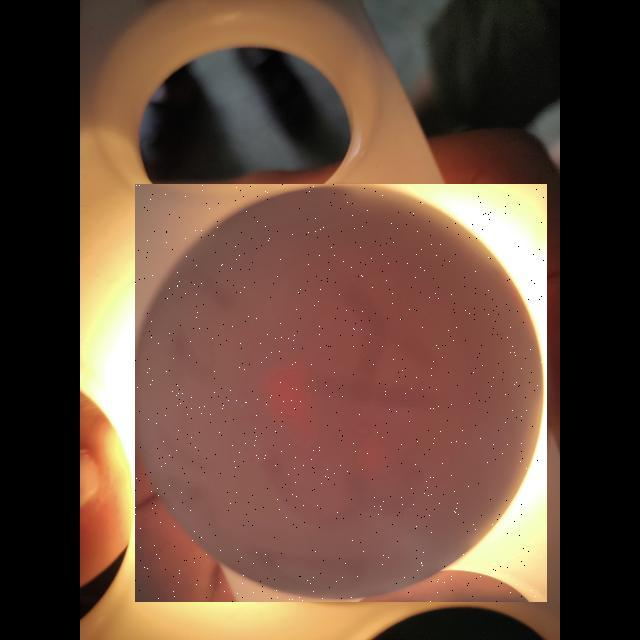B - Fair: (135, 184, 547, 602)
